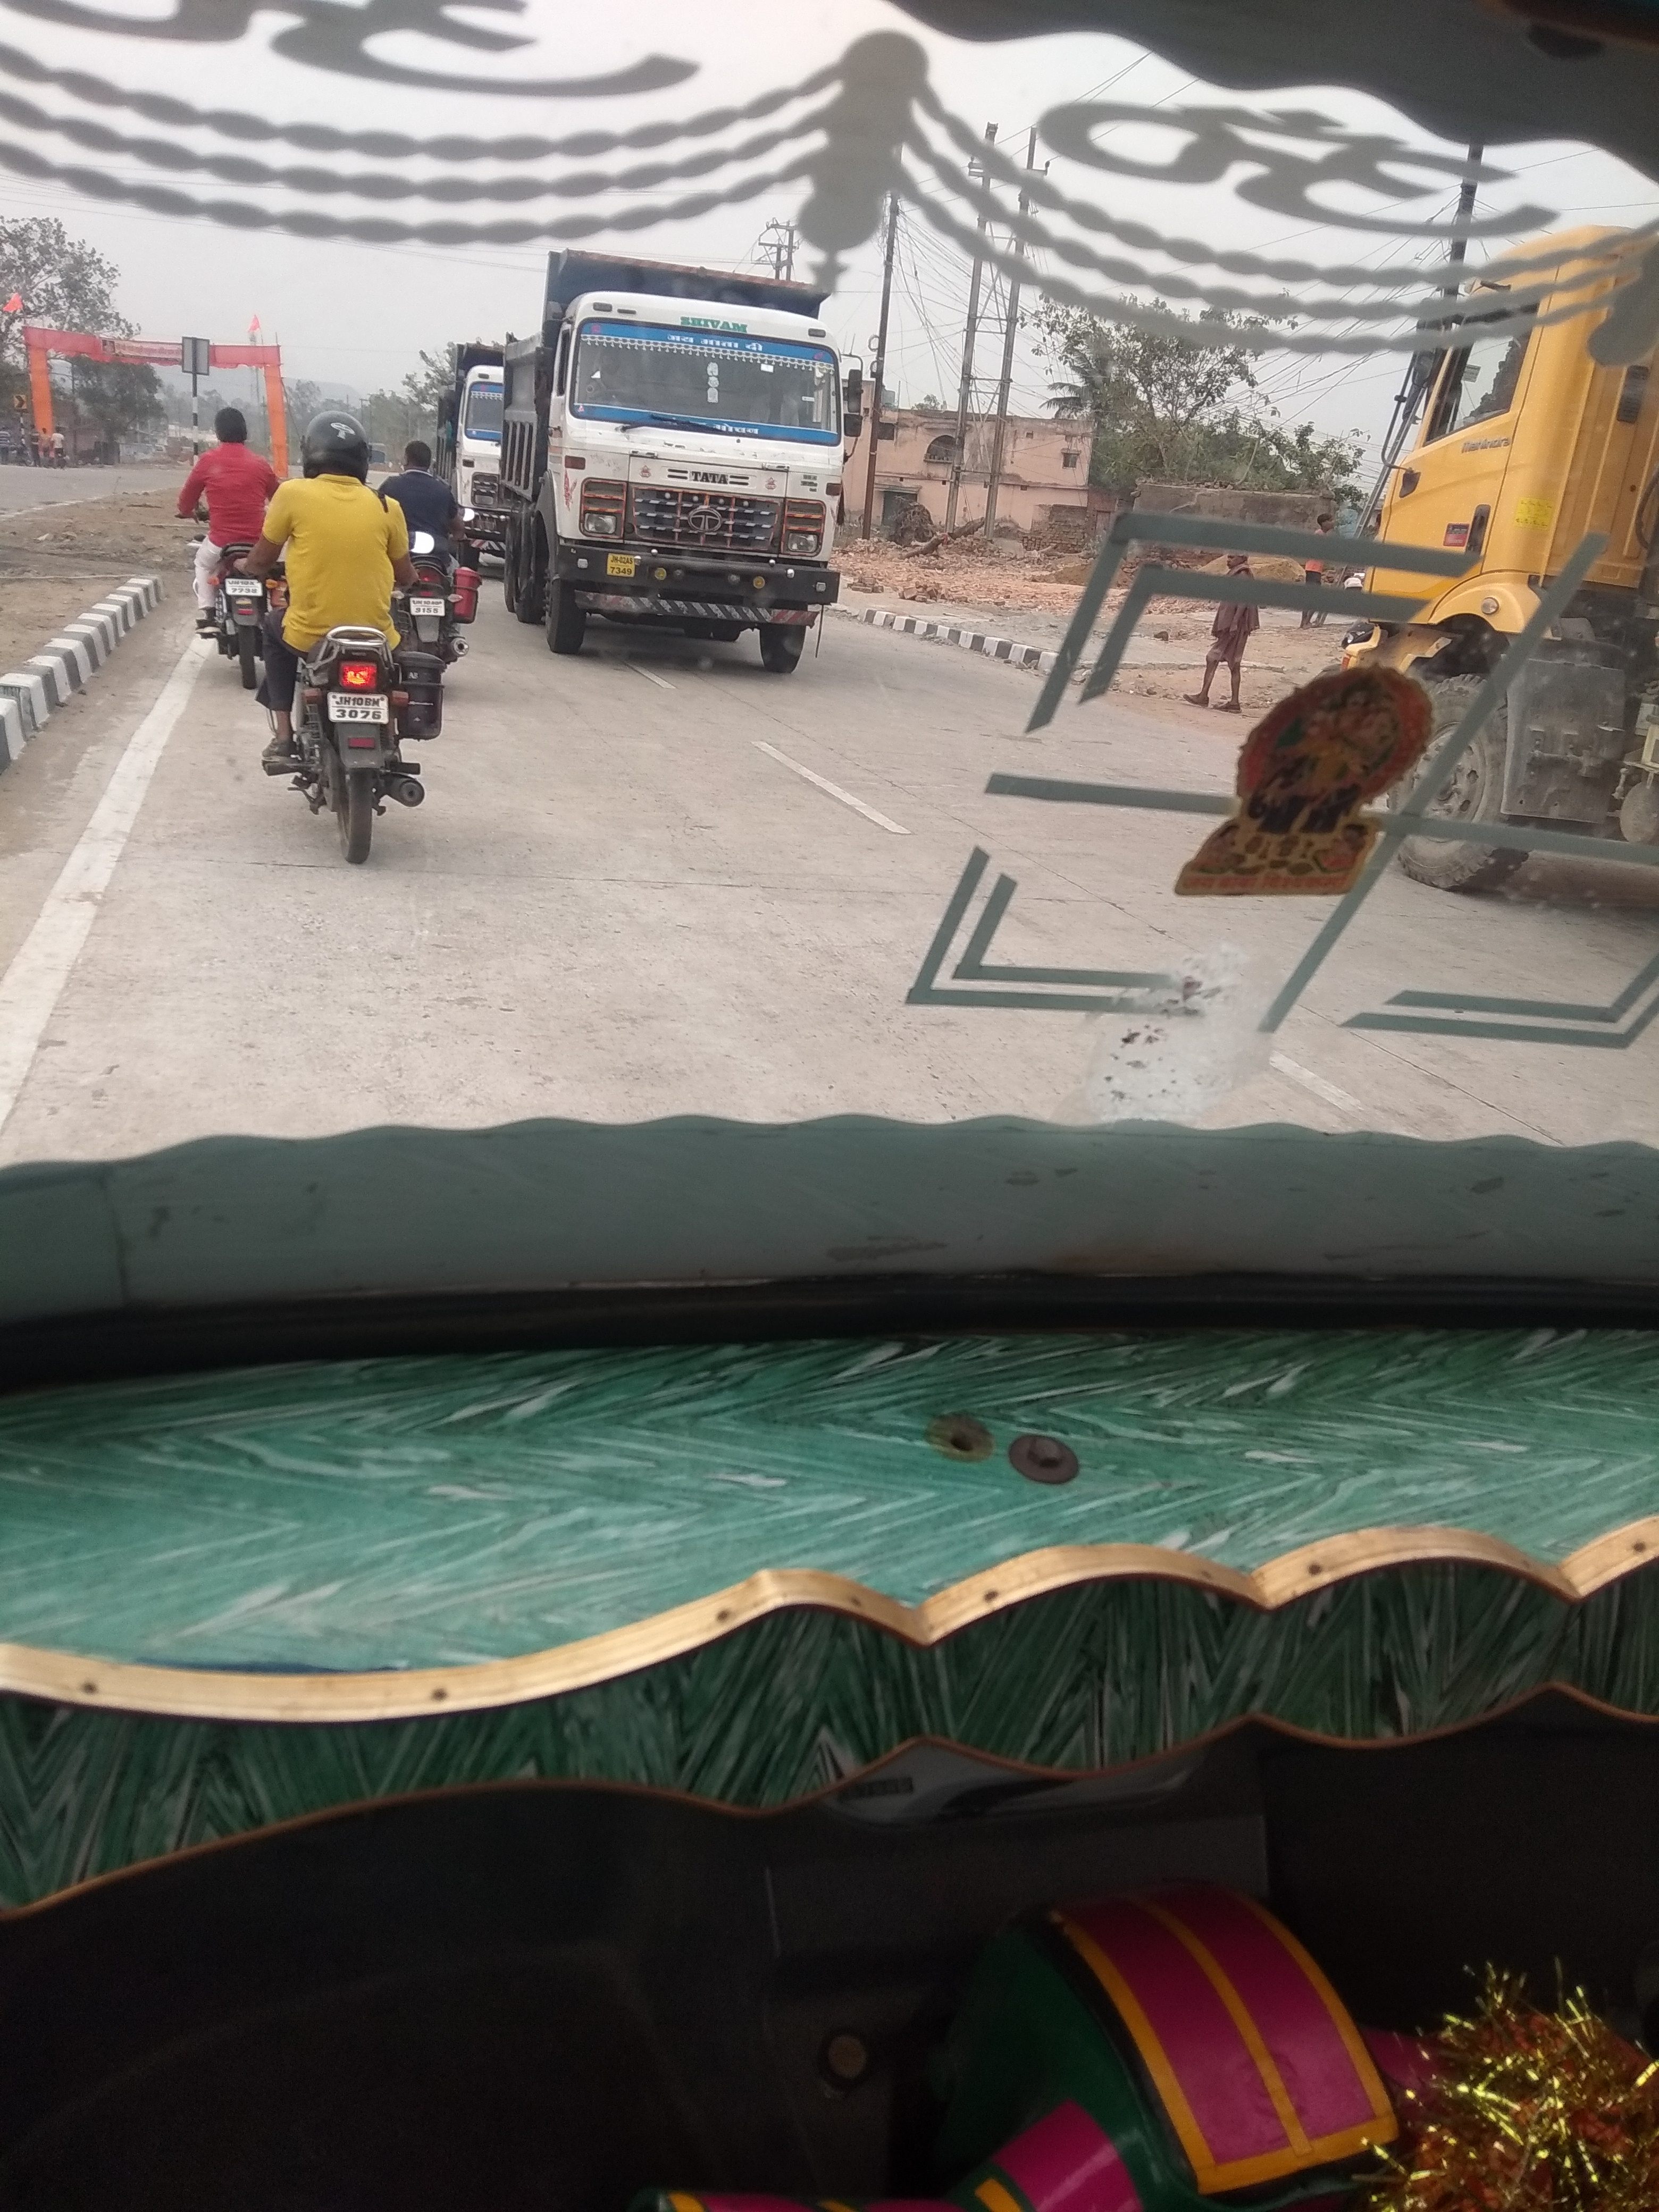truck: (502, 244, 866, 676), (432, 340, 512, 571)
